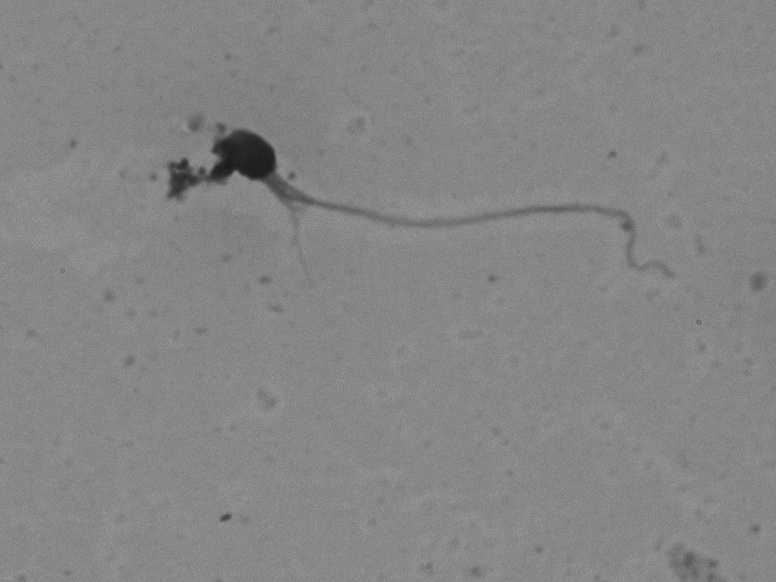Abnormal: (203, 102, 676, 332)
